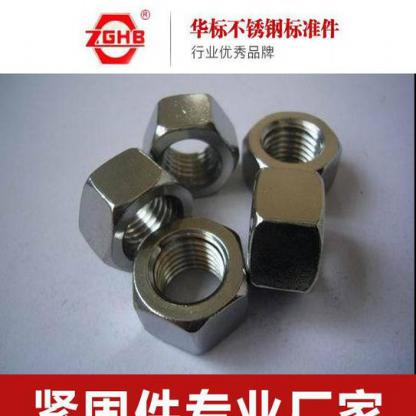FOD: (130, 213, 250, 356), (79, 146, 193, 272), (138, 88, 242, 200), (244, 162, 328, 296), (240, 108, 350, 193)
